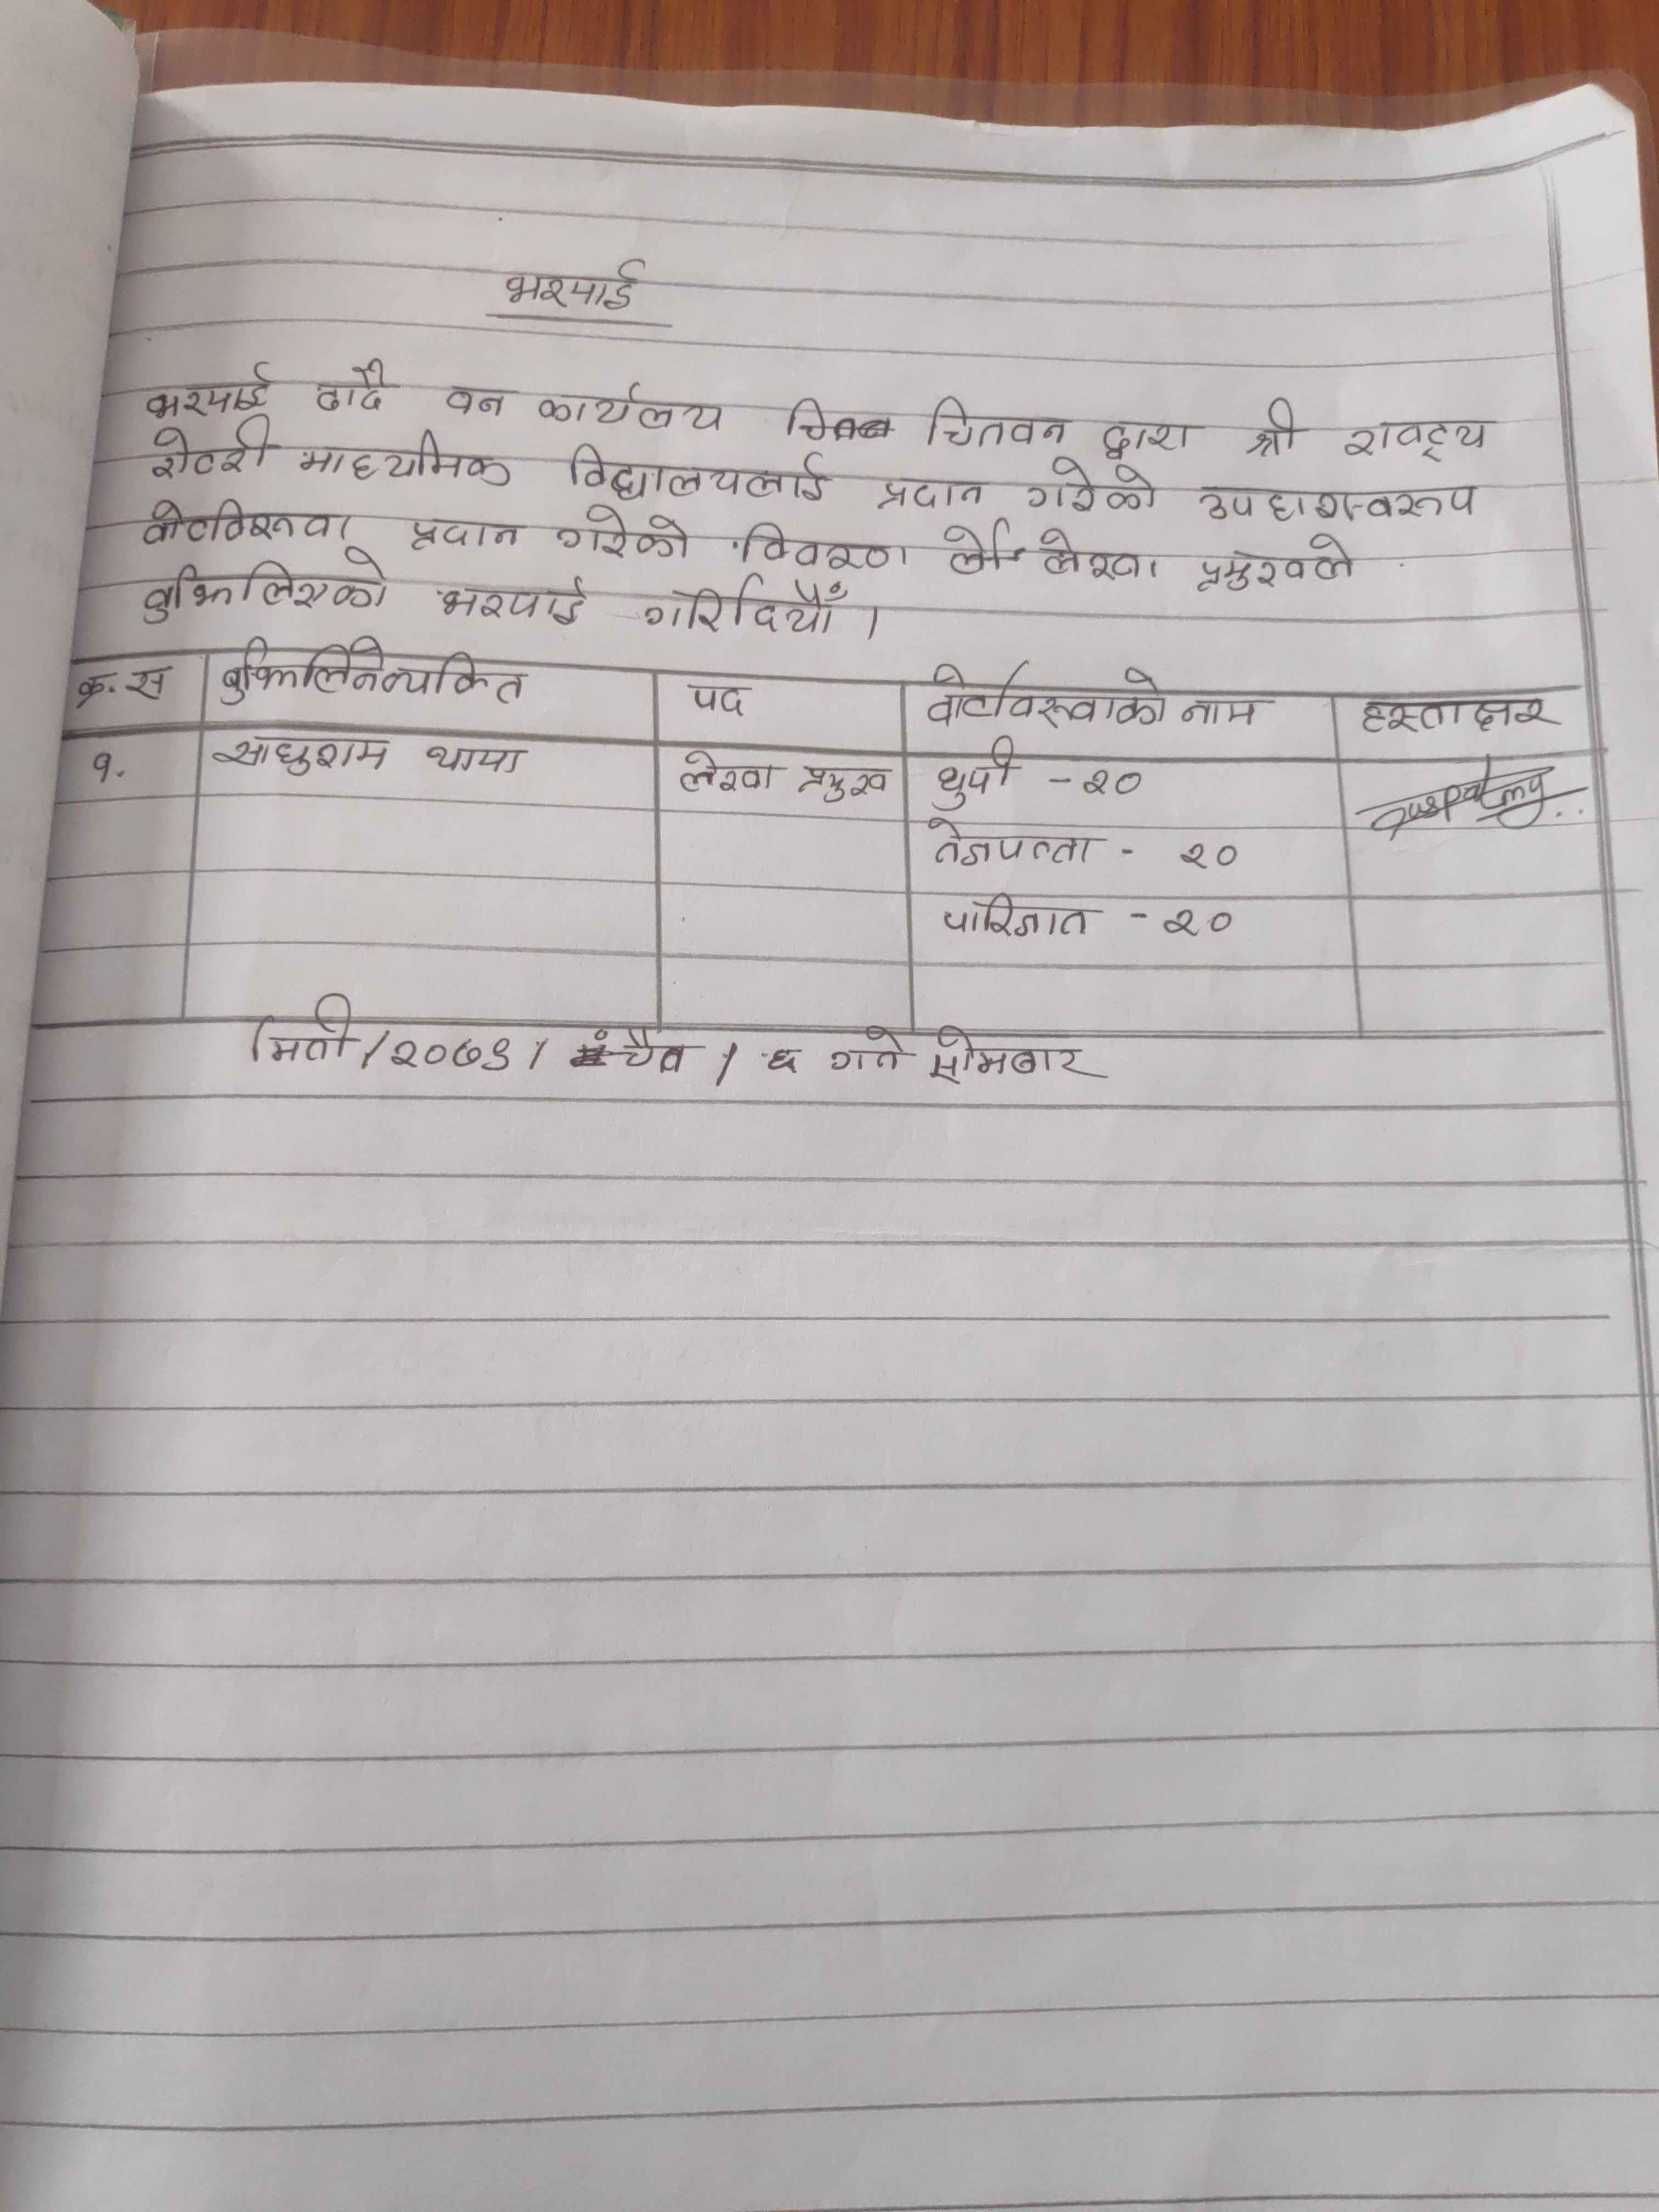text: (218, 634, 532, 711), (139, 547, 390, 627), (924, 658, 1169, 730), (566, 441, 830, 502), (641, 573, 850, 637), (1194, 475, 1478, 523), (298, 430, 518, 489), (927, 1024, 1114, 1089), (533, 376, 725, 434), (139, 495, 354, 545), (1190, 531, 1358, 594), (927, 813, 1100, 869), (741, 519, 910, 575), (925, 394, 1077, 451), (146, 415, 274, 482), (1023, 455, 1159, 516), (242, 993, 356, 1066), (437, 575, 587, 629), (213, 733, 396, 777), (500, 260, 647, 314), (141, 361, 274, 420), (556, 503, 692, 561), (1354, 697, 1565, 733), (939, 894, 1096, 942), (1340, 415, 1490, 465), (1037, 524, 1161, 585), (931, 735, 1018, 815), (387, 1035, 519, 1076), (408, 516, 526, 561), (669, 749, 781, 796), (314, 359, 396, 418), (73, 664, 173, 711), (795, 759, 894, 806), (1098, 418, 1199, 463), (871, 475, 988, 514), (1244, 395, 1305, 465), (824, 1031, 904, 1082), (422, 742, 521, 780), (617, 1028, 692, 1078), (1180, 695, 1270, 732), (683, 678, 755, 719), (439, 383, 514, 421), (1077, 763, 1148, 803), (1161, 904, 1243, 939), (1176, 841, 1246, 873), (82, 745, 129, 789), (762, 1045, 805, 1075)
